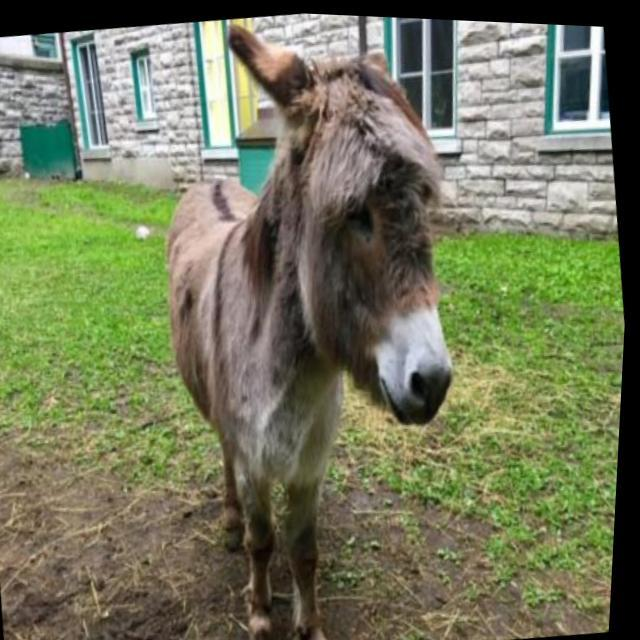Donkey: (126, 5, 504, 640)
